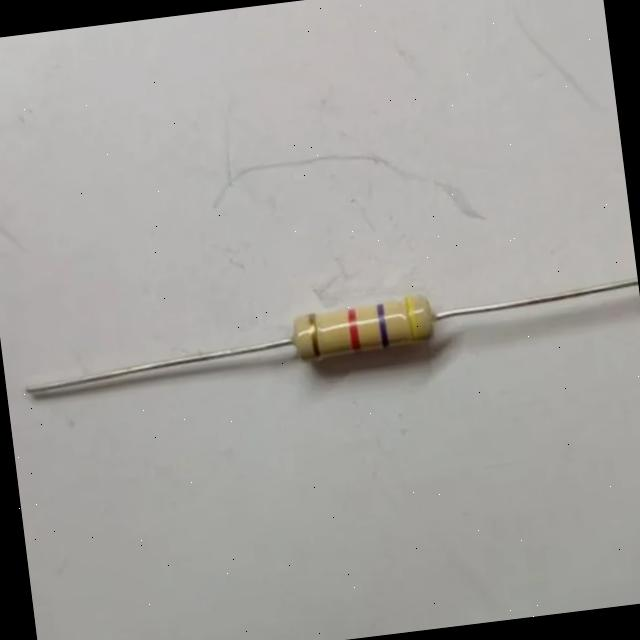gold: (308, 312, 320, 359)
red: (346, 306, 363, 352)
resistor: (282, 279, 446, 378)
violet: (376, 302, 390, 348)
yellow: (404, 295, 419, 343)
